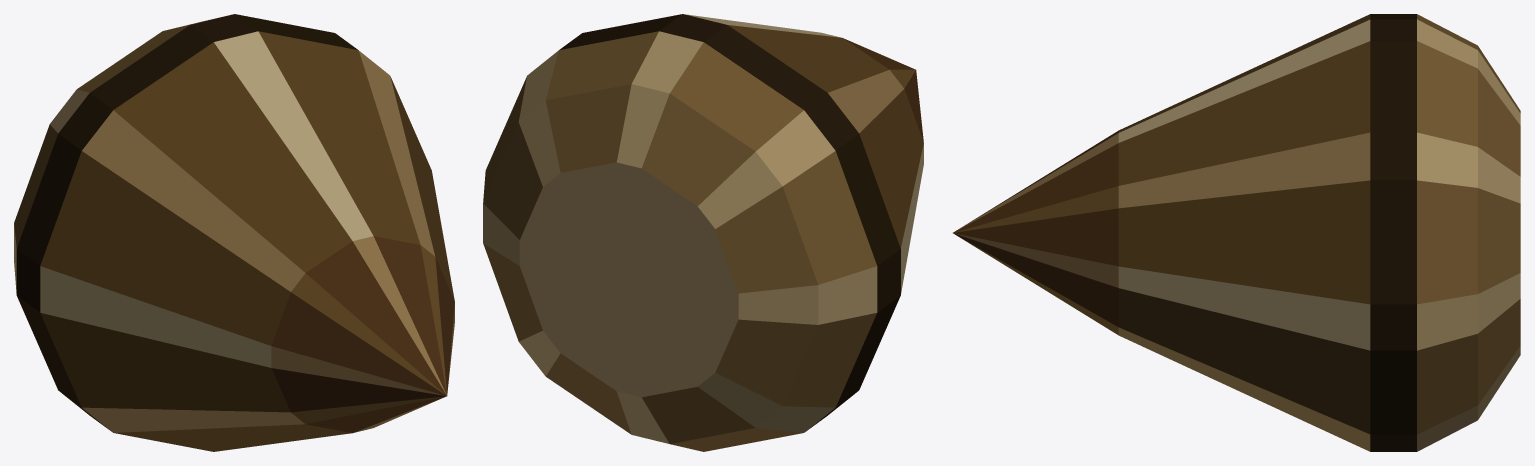
Rendered from diamond.glb.
The picture shows the model from 3 angles, left to right: view 1: azimuth 30°, elevation 25°; view 2: azimuth 150°, elevation 25°; view 3: azimuth 270°, elevation 25°; orthographic projection.
Visible parts, largest first — view 1: diamond; view 2: diamond; view 3: diamond.
Part boxes in pixels (box(x1,y1,x2,y2)): diamond: box(14, 14, 454, 451); diamond: box(483, 14, 923, 451); diamond: box(953, 14, 1520, 451).
Size of the model in its own units: 11.03 by 11.03 by 14.
